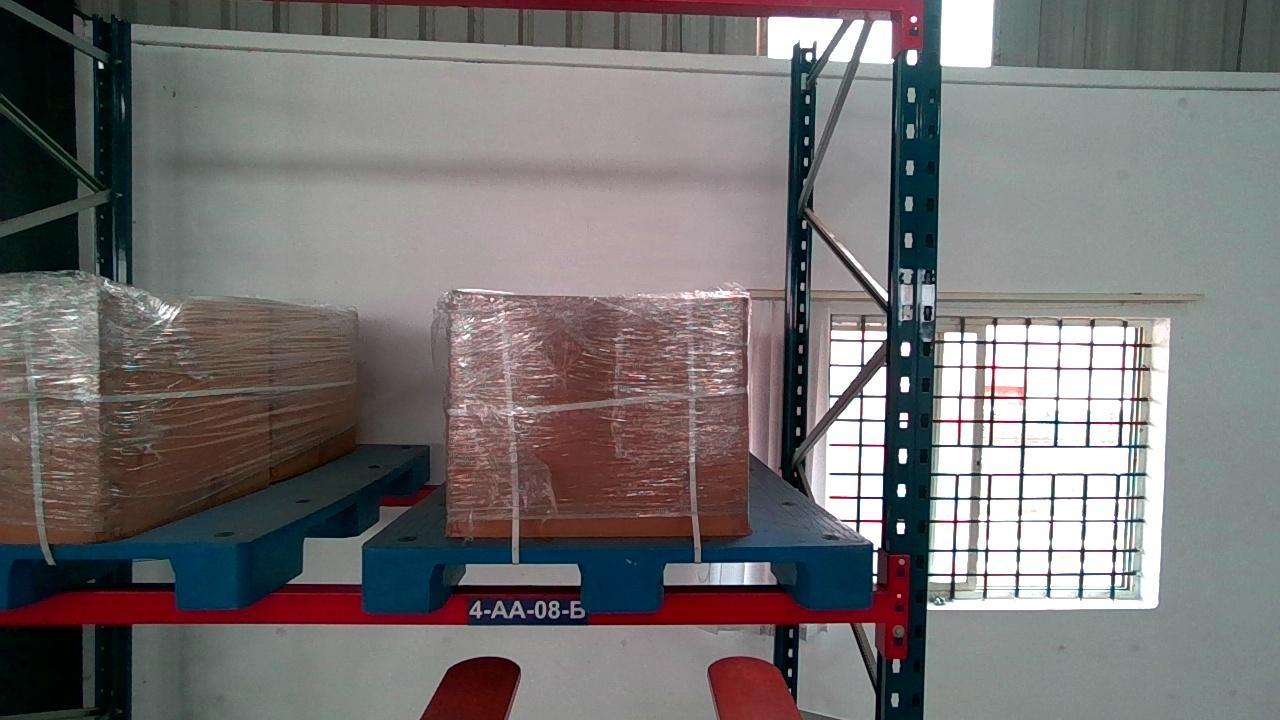h_rack: (0, 590, 891, 624)
small_pallet: (365, 545, 871, 610), (1, 542, 233, 608)
